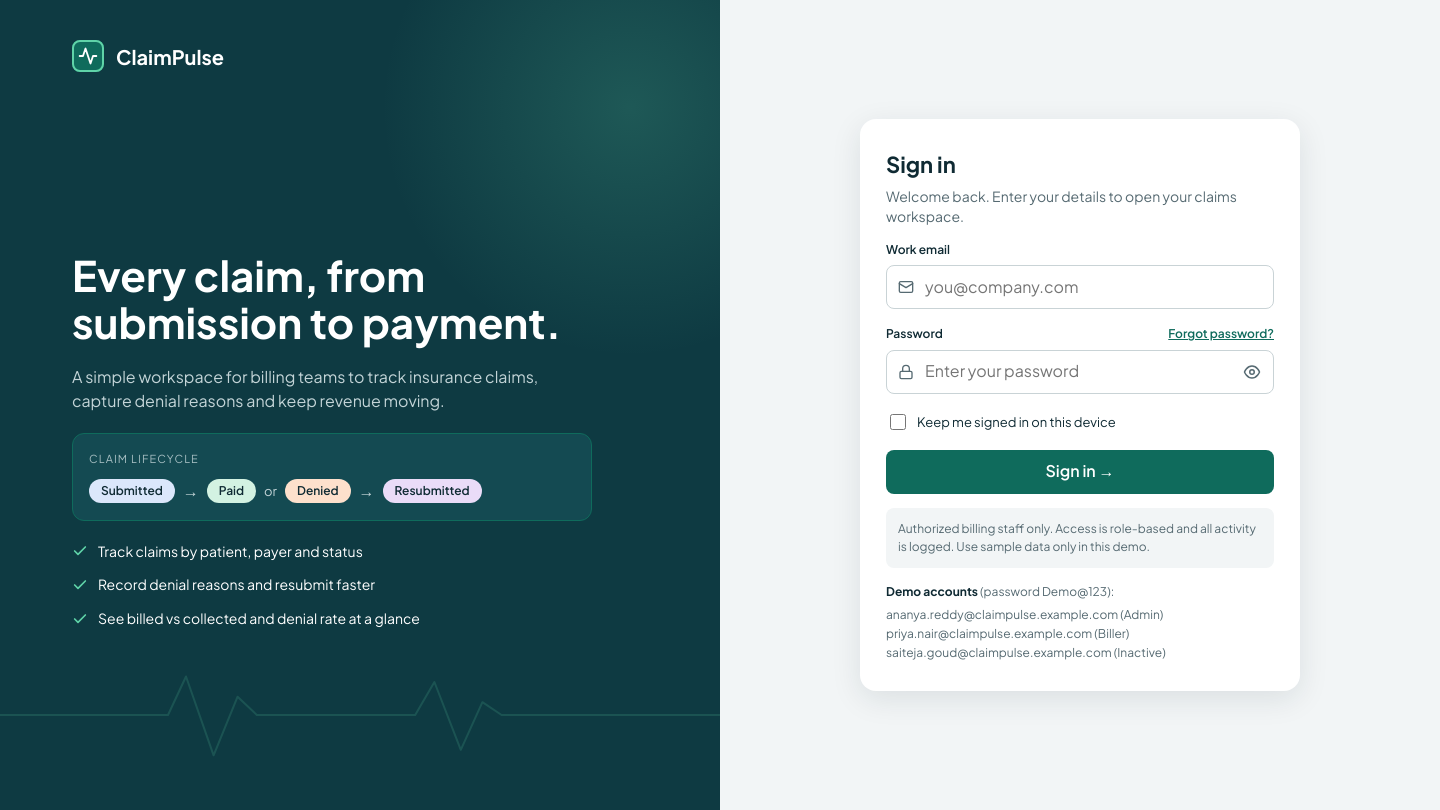
Test case: Dashboard › shows billers a notice on Claims and no Delete claim button
Type "priya.nair@claimpulse.example.com" into the field labelled "Work email". click: coordinates (1080, 287)
box: 886,265 -> 1274,309
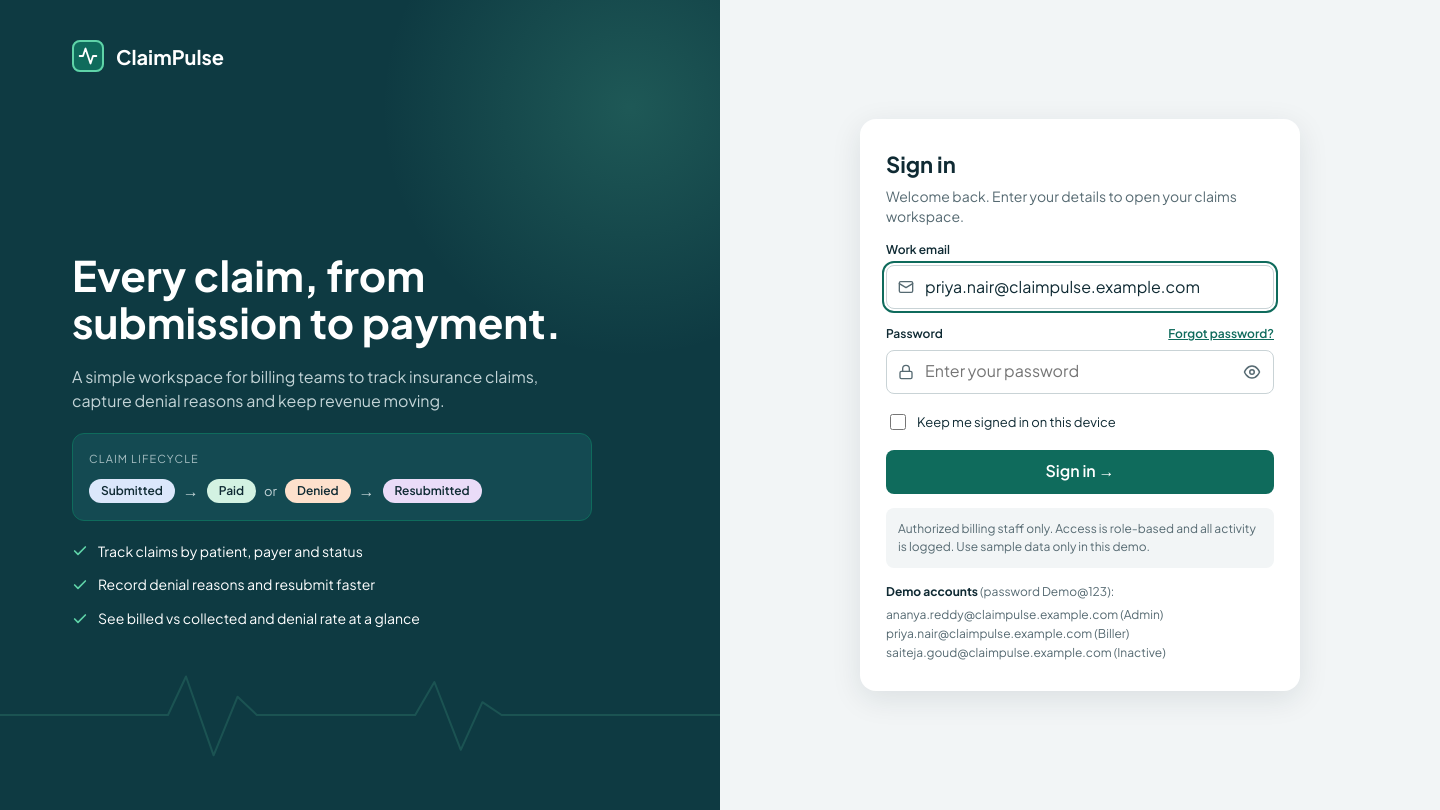
Type "Demo@123" into the password field labelled "Password". click: coordinates (1080, 372)
box: 886,350 -> 1274,394
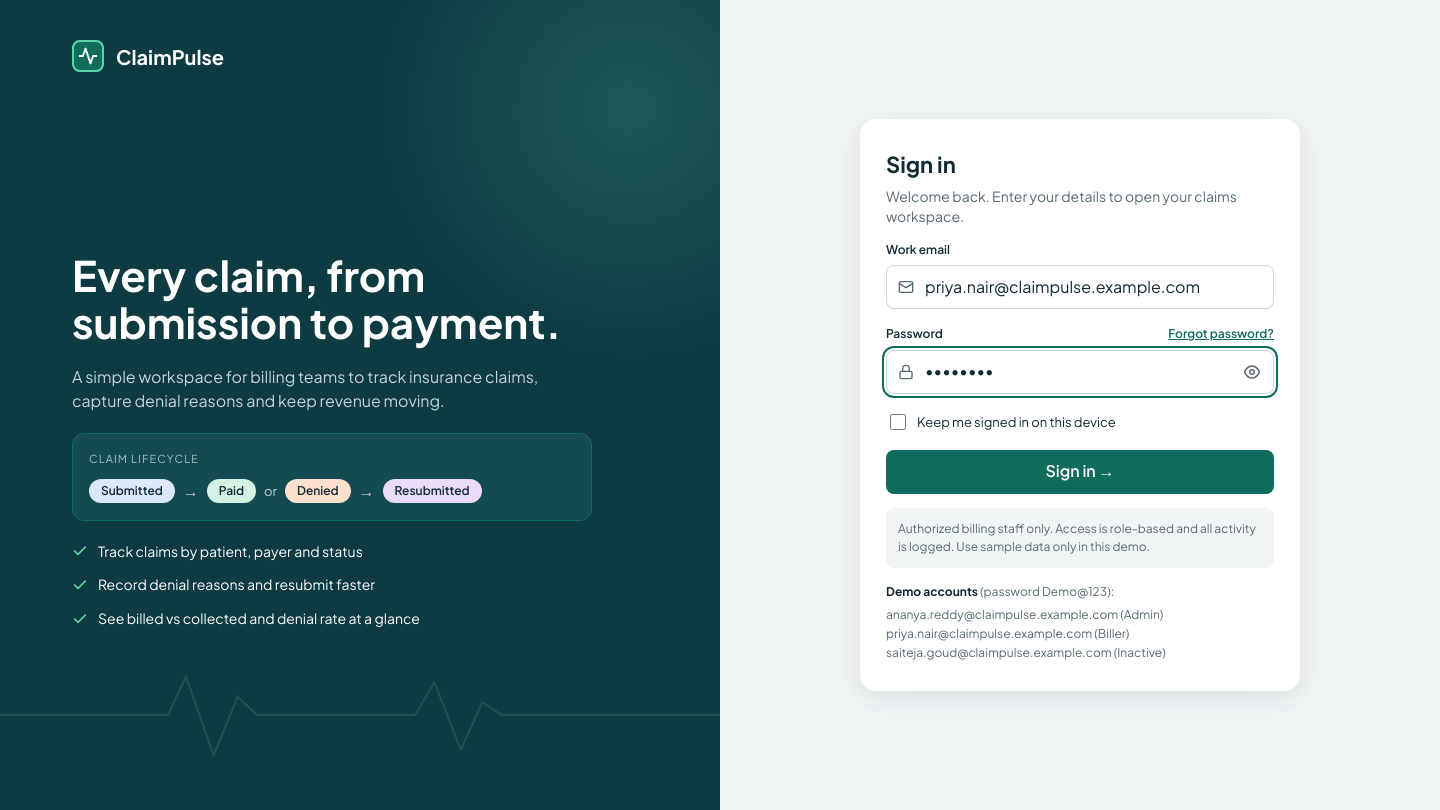
Click the button "Sign in →". click: coordinates (1080, 472)
box: 886,450 -> 1274,494
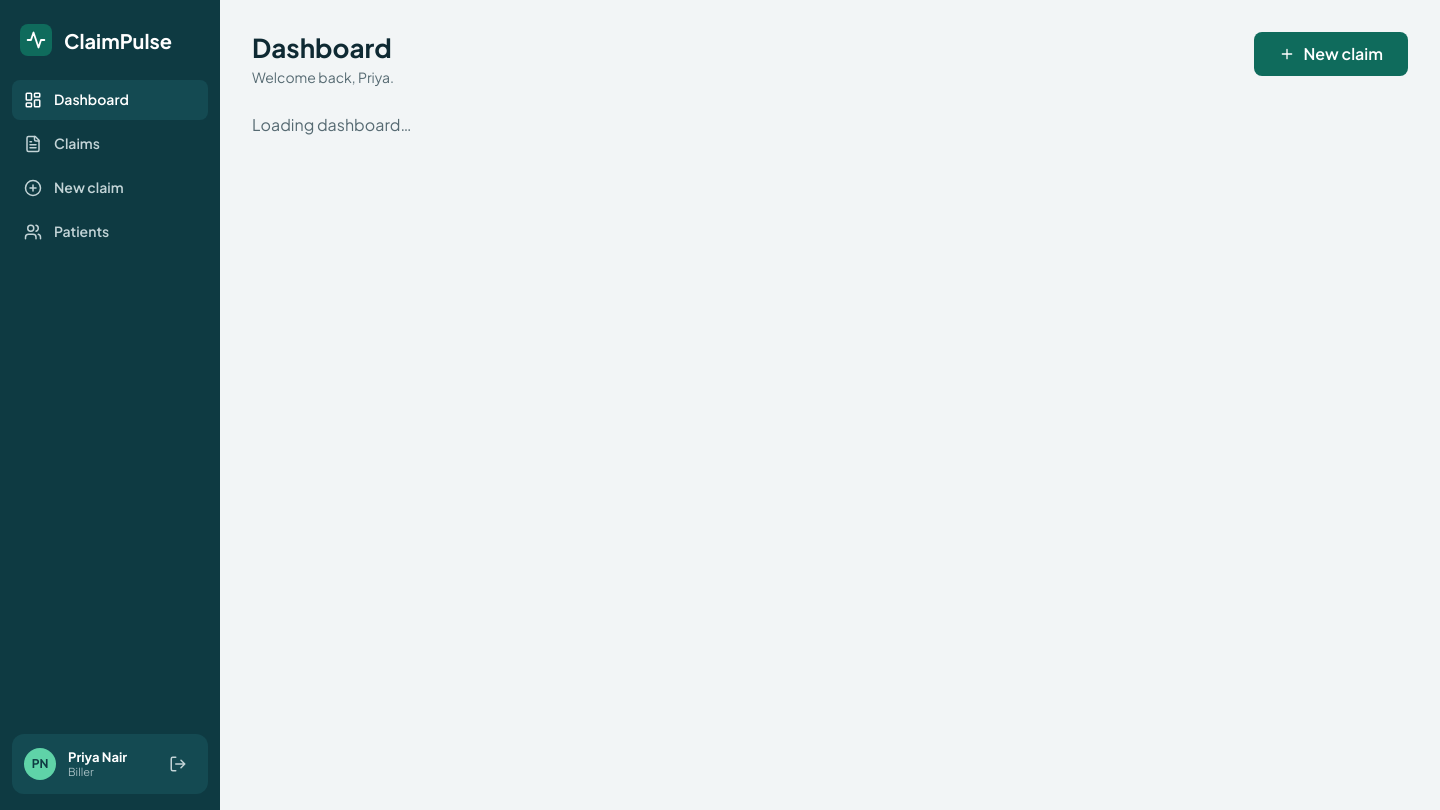
Expected: the heading "Dashboard" is shown, 252,32 -> 394,63
Click the link "Claims". click: coordinates (62, 144)
box: 24,134 -> 100,153
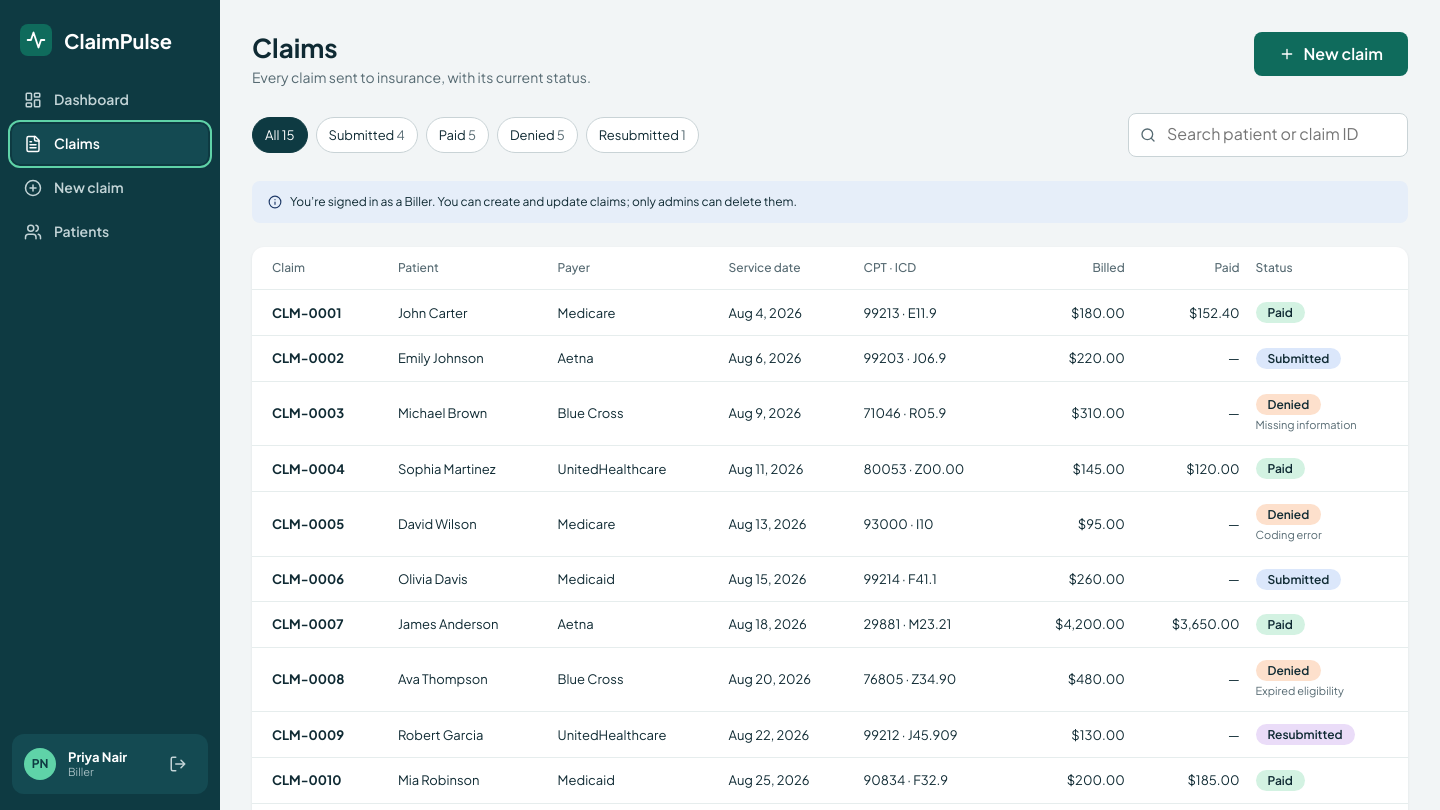
Expected: the text "You.re signed in as a Biller. You can create and update claims" is shown, 290,194 -> 797,209
Click the link "CLM-0002". click: coordinates (308, 358)
box: 272,350 -> 344,366
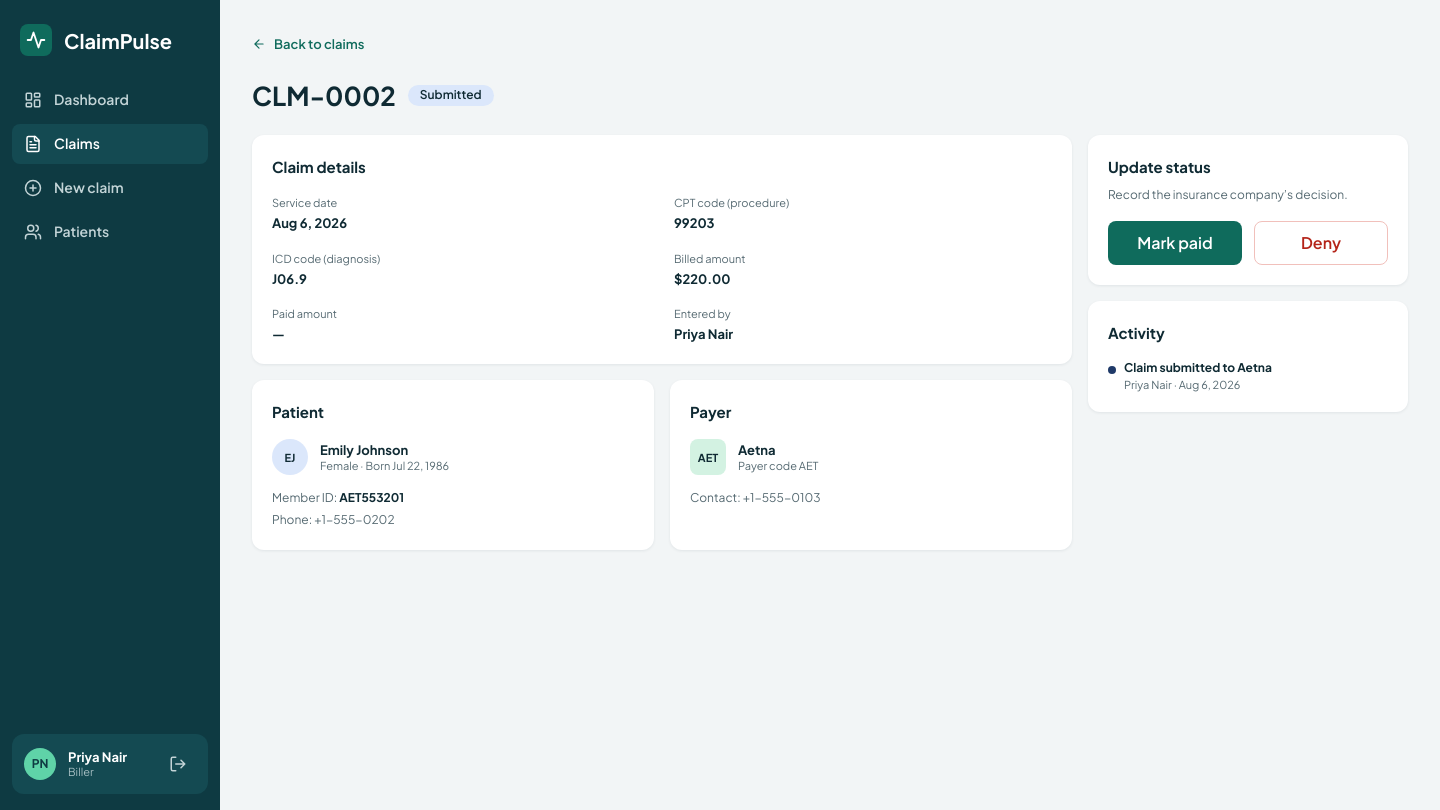
Expected: the heading "CLM-0002 Submitted" is shown, 252,80 -> 494,111
Expected: the button "Mark paid" is shown, 1108,221 -> 1242,265
